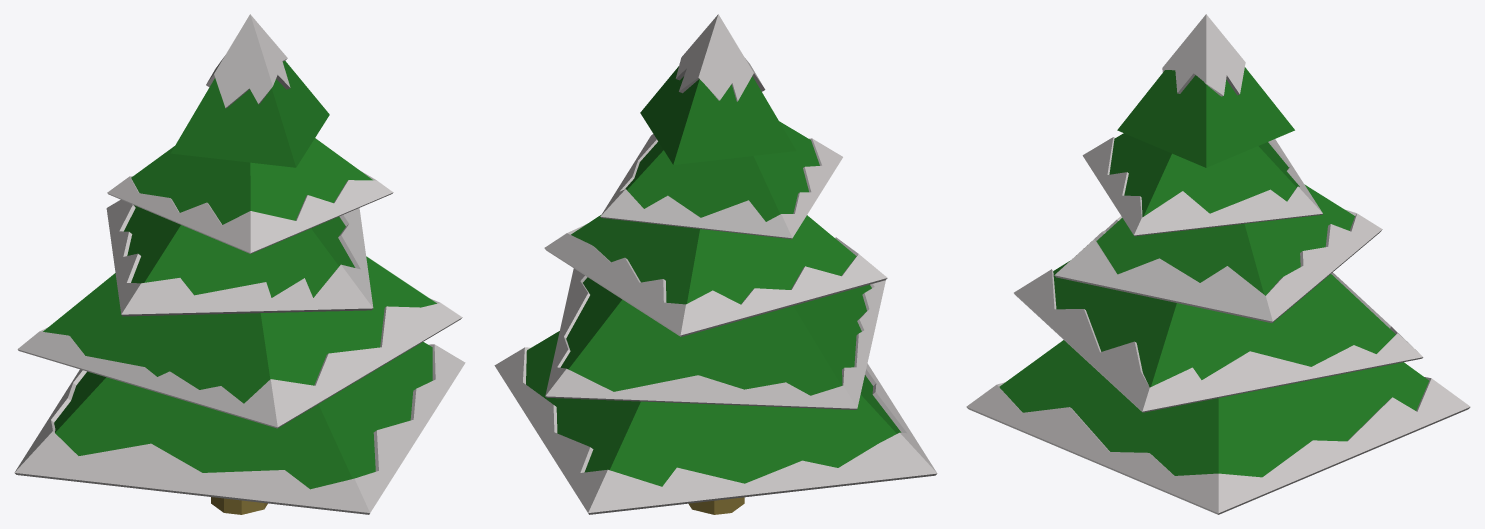
The model's file is low-poly_snow_tree.glb.
3 renders of one model, left to right at view 1: azimuth 30°, elevation 25°; view 2: azimuth 150°, elevation 25°; view 3: azimuth 270°, elevation 25°, orthographic. The views are drawn at different scales.
Parts seen in each view (by area): view 1: Object_3, Object_4, Object_2; view 2: Object_3, Object_4, Object_2; view 3: Object_3, Object_4.
Boxes of the visible parts, bbox=[...] form: Object_3: bbox=[43, 61, 436, 489]; Object_4: bbox=[14, 14, 465, 514]; Object_2: bbox=[211, 497, 267, 514]; Object_3: bbox=[526, 66, 901, 486]; Object_4: bbox=[494, 14, 937, 514]; Object_2: bbox=[688, 497, 744, 514]; Object_3: bbox=[999, 67, 1428, 477]; Object_4: bbox=[966, 14, 1470, 514].
Size of the model in its own units: 1.43 by 1.49 by 1.43.
